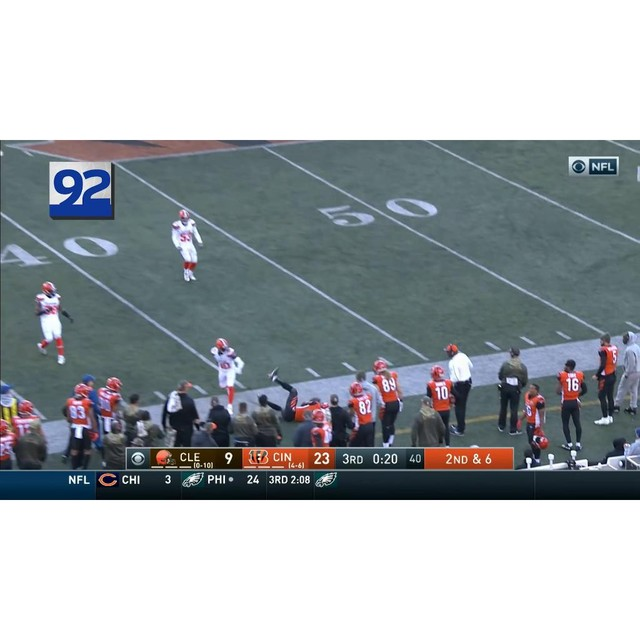american-football-player: (30, 282, 74, 365), (169, 210, 204, 282)
